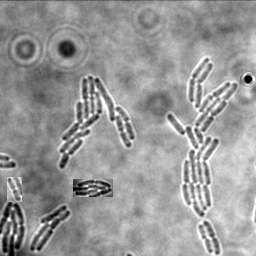Dividing: (204, 219, 222, 255), (199, 223, 215, 253), (7, 177, 22, 202)
Microcolony: (167, 57, 238, 216), (59, 75, 136, 169), (30, 204, 72, 251), (1, 200, 26, 255), (73, 179, 113, 197)
